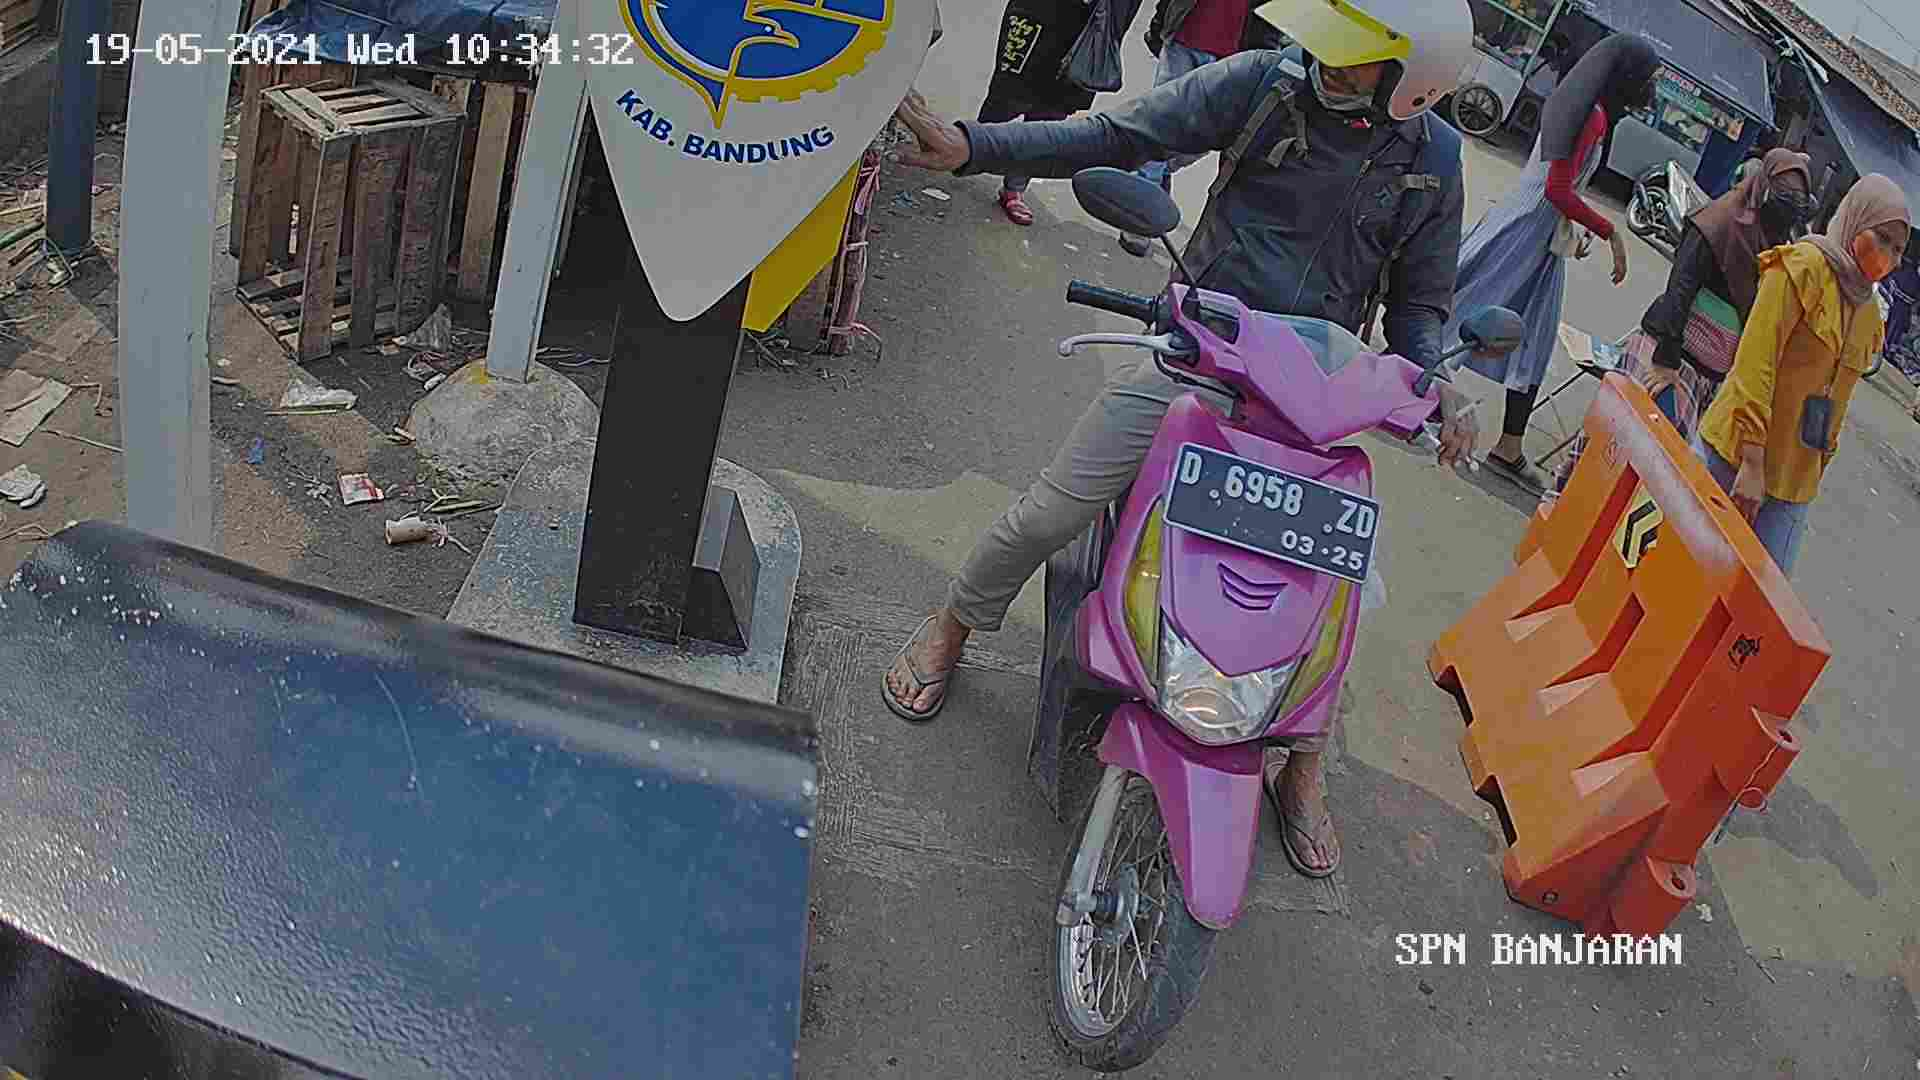motor: (1029, 260, 1474, 1077)
